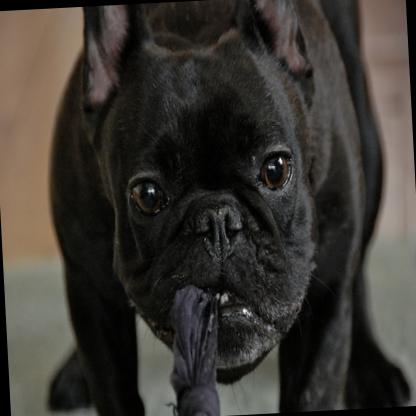French_bulldog: (23, 0, 409, 416)
